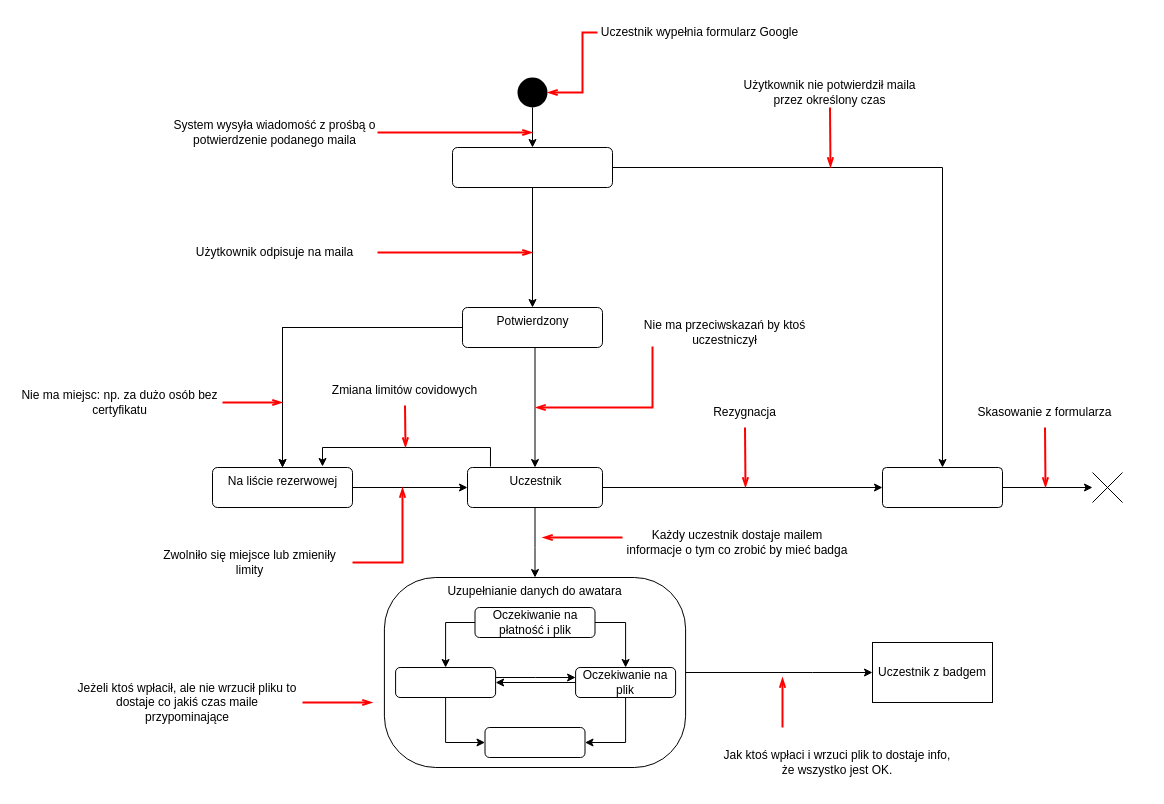
Image size: 1164x804. Some labels were removed from this diagram. The centre of each missing label's shape, as x and y in pixels:
"Awatar gotowy" goes at (x=534, y=742).
"Oczekiwanie na płatność" goes at (x=445, y=682).
"Oczekuje na potwierdzenie" goes at (x=532, y=167).
"Usunięty" goes at (x=942, y=487).
